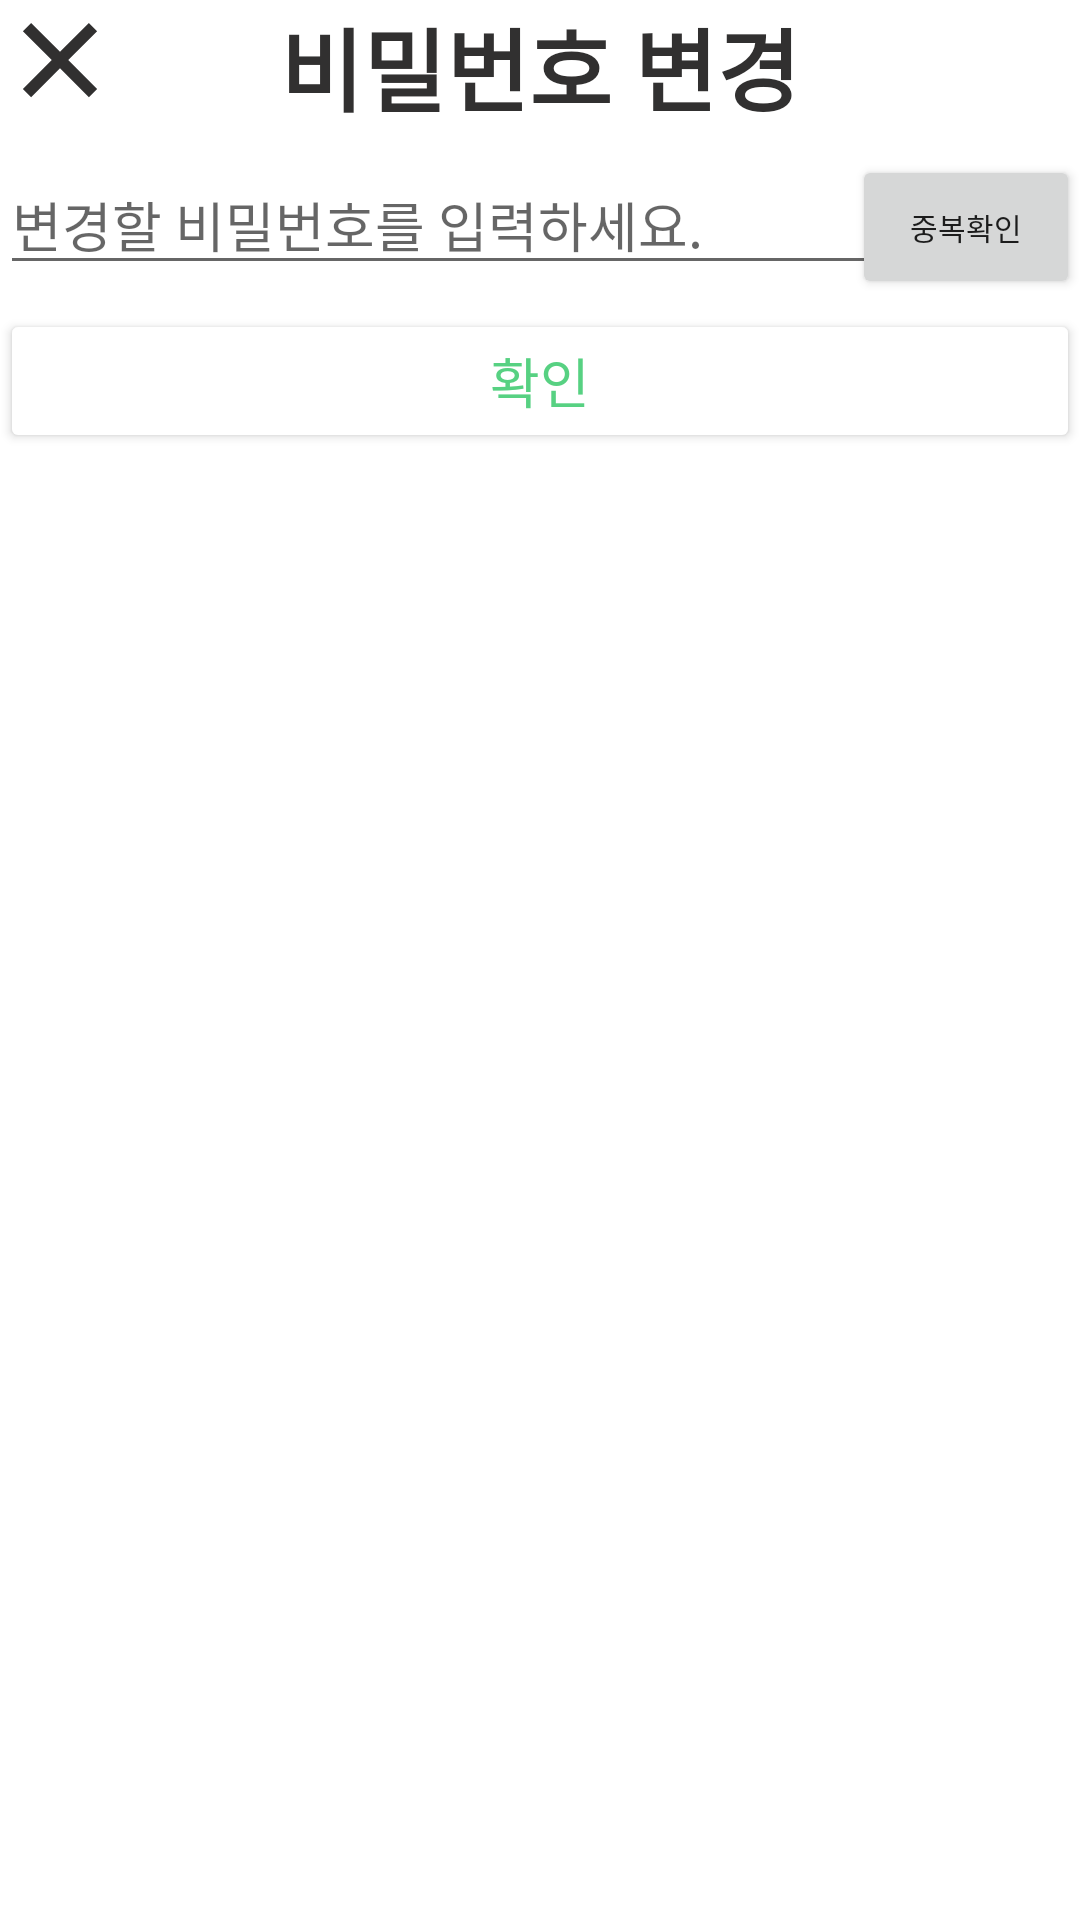

Icons on this 1080×1920 Android screen, each with the point to tap as (x,y):
close: (60,60)
